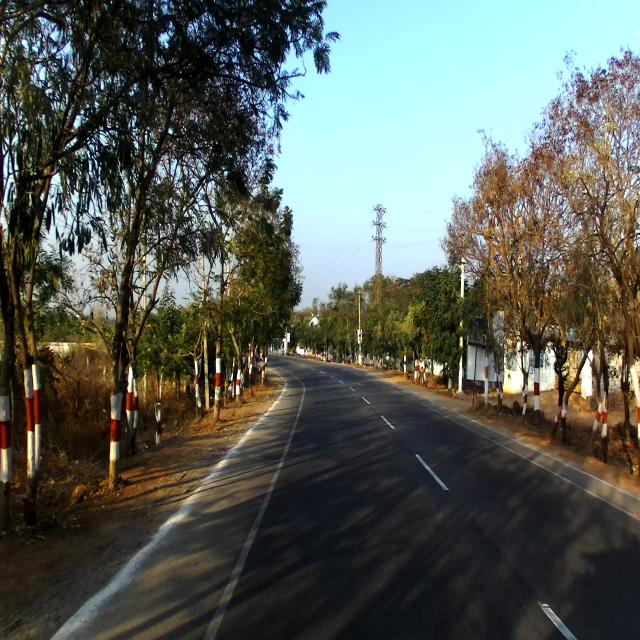tree ahead at: (18, 350, 49, 524), (107, 328, 124, 488), (208, 299, 228, 422)
